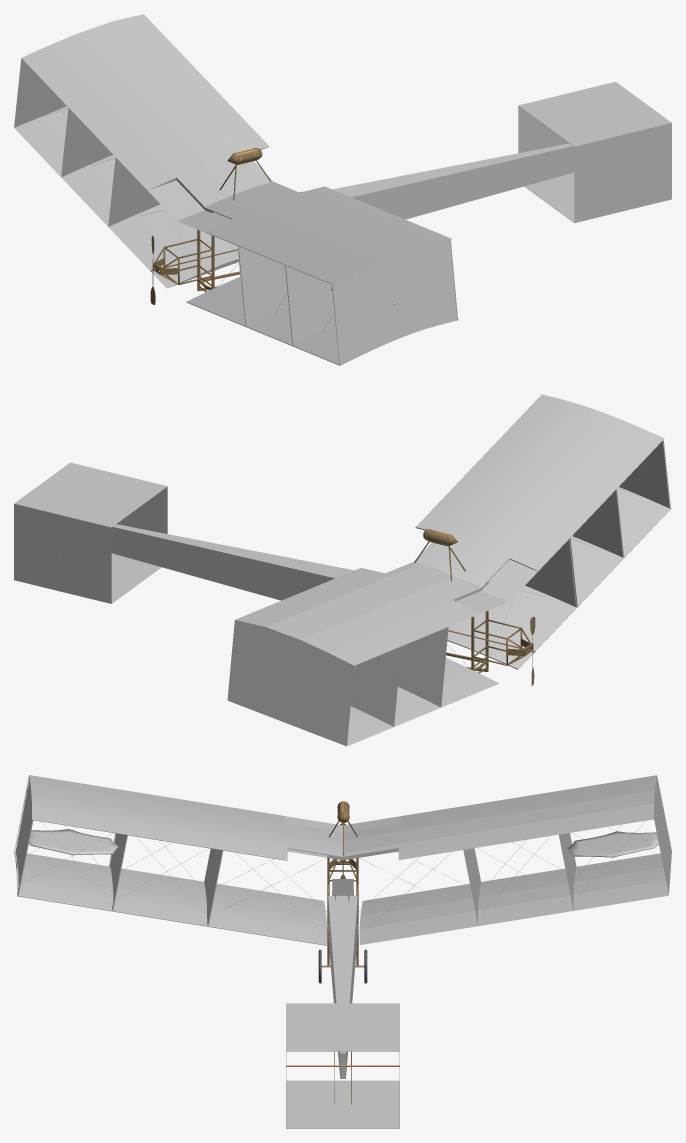
File: 14 bis.obj
The picture shows the model from 3 angles, top to bottom: view 1: azimuth 30°, elevation 25°; view 2: azimuth 150°, elevation 25°; view 3: azimuth 270°, elevation 25°; orthographic projection.
Visible parts, largest first — view 1: Group_29_ID77.001, group_0.011_moteur_moteur.mesh.002; view 2: Group_29_ID77.001, group_0.011_moteur_moteur.mesh.002; view 3: Group_29_ID77.001, group_0.011_moteur_moteur.mesh.002.
Part boxes in pixels (bbox=[...]): Group_29_ID77.001: bbox=[14, 14, 671, 365]; group_0.011_moteur_moteur.mesh.002: bbox=[150, 148, 302, 304]; Group_29_ID77.001: bbox=[14, 394, 671, 746]; group_0.011_moteur_moteur.mesh.002: bbox=[62, 529, 535, 685]; Group_29_ID77.001: bbox=[14, 775, 671, 1128]; group_0.011_moteur_moteur.mesh.002: bbox=[286, 801, 399, 1104].
Bounding box in the file's own units: 12.76 × 4.28 × 14.56.
